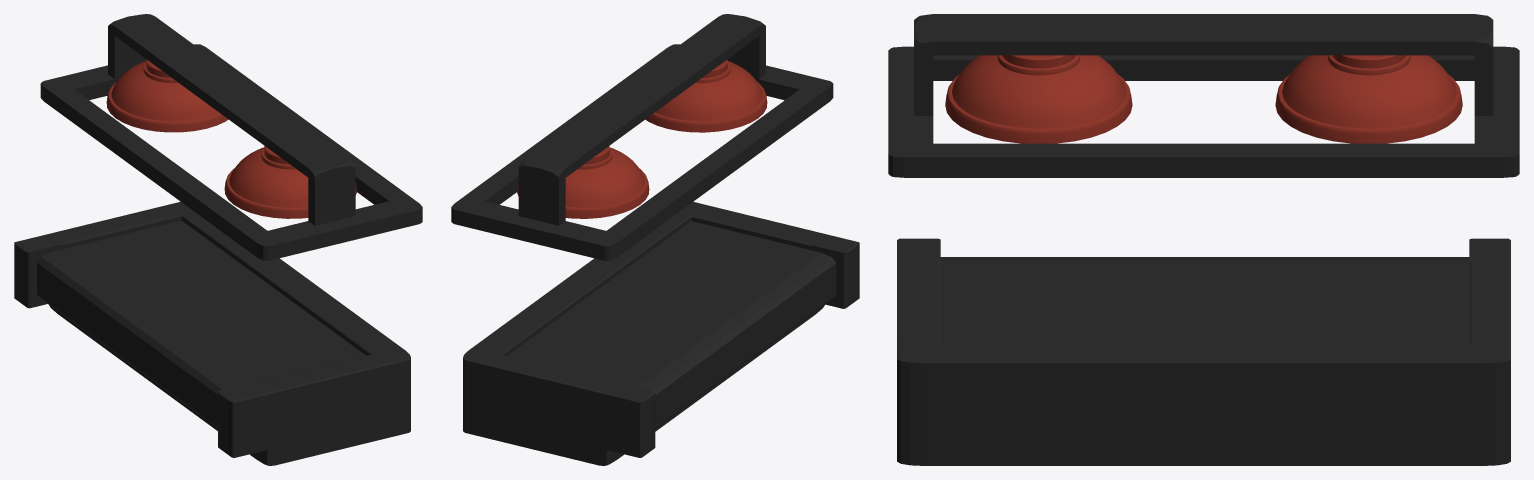
The model's file is M6_BO_MealReady_FacesFixed_2dePoging.fbx.
3 renders of one model, left to right at view 1: azimuth 30°, elevation 25°; view 2: azimuth 150°, elevation 25°; view 3: azimuth 270°, elevation 25°, orthographic. The views are drawn at different scales.
Visible parts, largest first — view 1: Band, Base rode dingen van finished counter, Rode dingen van finished counter; view 2: Band, Base rode dingen van finished counter, Rode dingen van finished counter; view 3: Band, Base rode dingen van finished counter, Rode dingen van finished counter.
Part boxes in pixels (x1,y1,x2,y2): Band: (14, 201, 410, 465); Base rode dingen van finished counter: (40, 14, 422, 260); Rode dingen van finished counter: (106, 59, 356, 218); Band: (463, 201, 859, 465); Base rode dingen van finished counter: (451, 14, 833, 260); Rode dingen van finished counter: (517, 59, 767, 218); Band: (897, 238, 1510, 465); Base rode dingen van finished counter: (888, 14, 1519, 177); Rode dingen van finished counter: (945, 55, 1462, 143).
Size of the model in its own units: 309 by 429 by 634.
